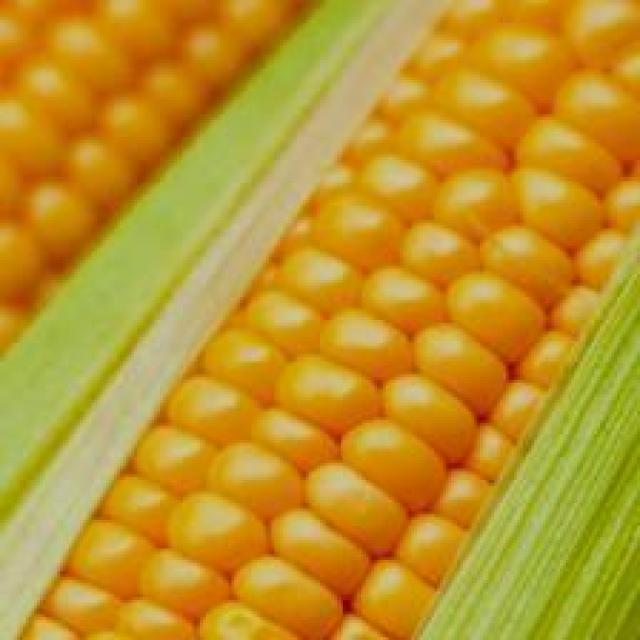corn: (17, 0, 640, 640)
